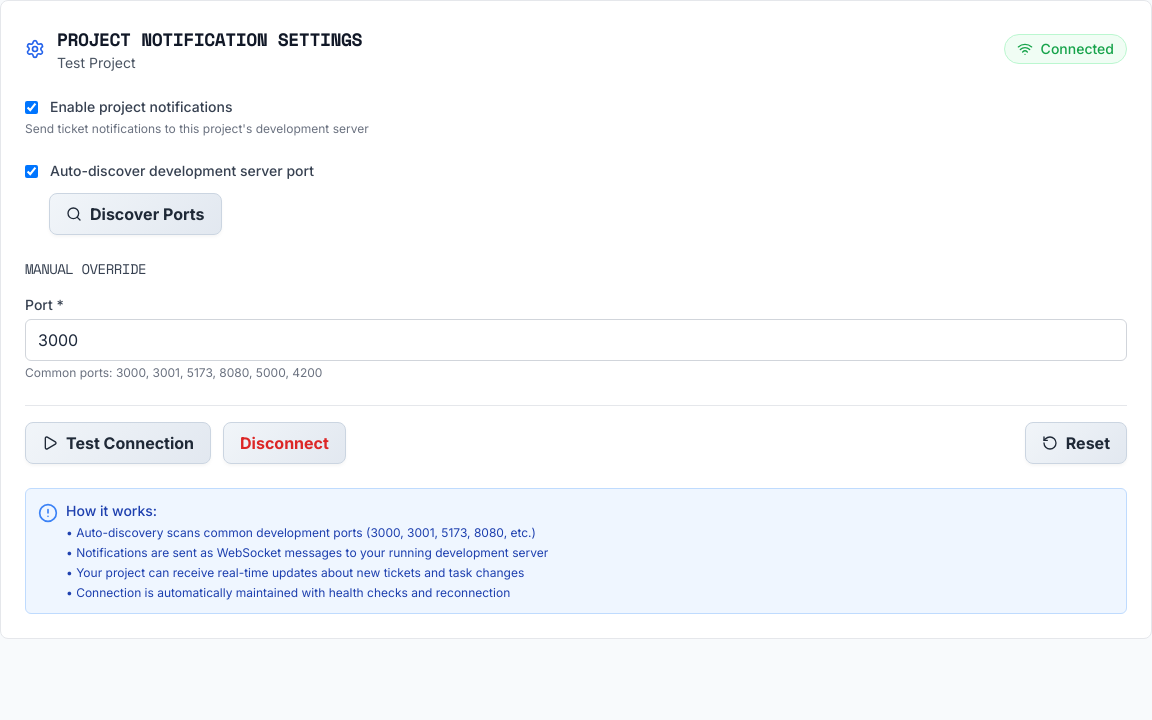
ProjectPortConfiguration Component › Edge Cases › should handle connection test failure
Step 1. Click the button "Test Connection" → coordinates (118, 443), box [25,422,211,464]
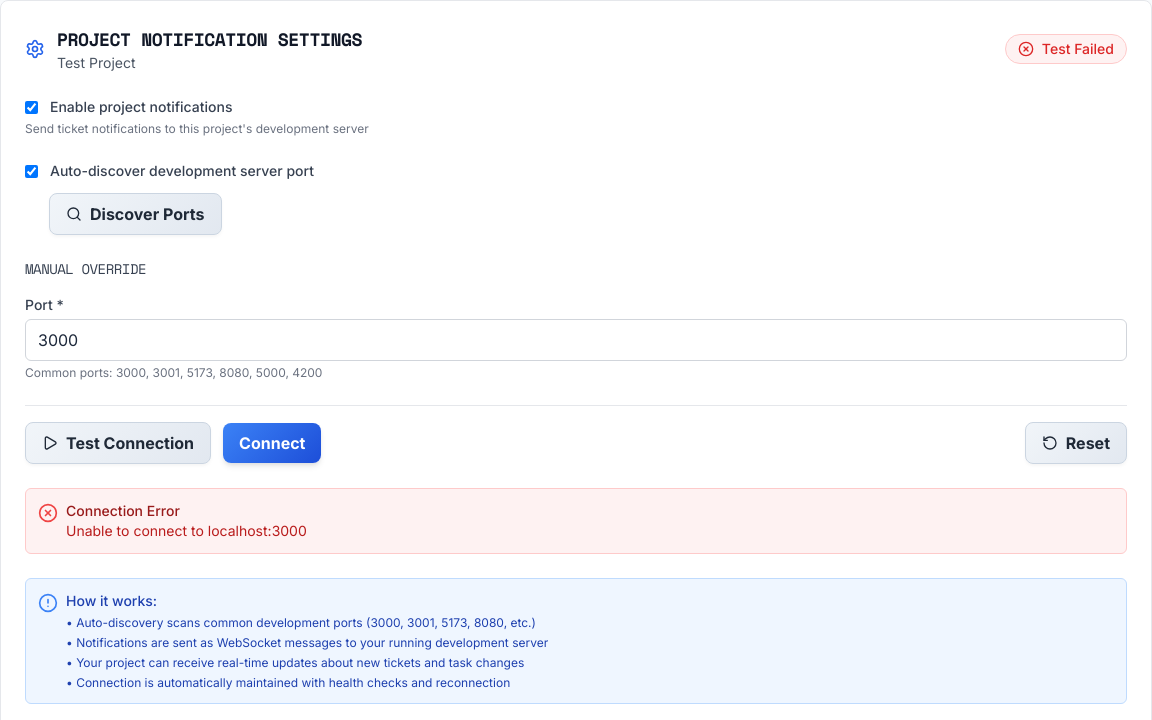
Expected: the text "Unable to connect to localhost:3000" is shown, [66,521,307,541]
